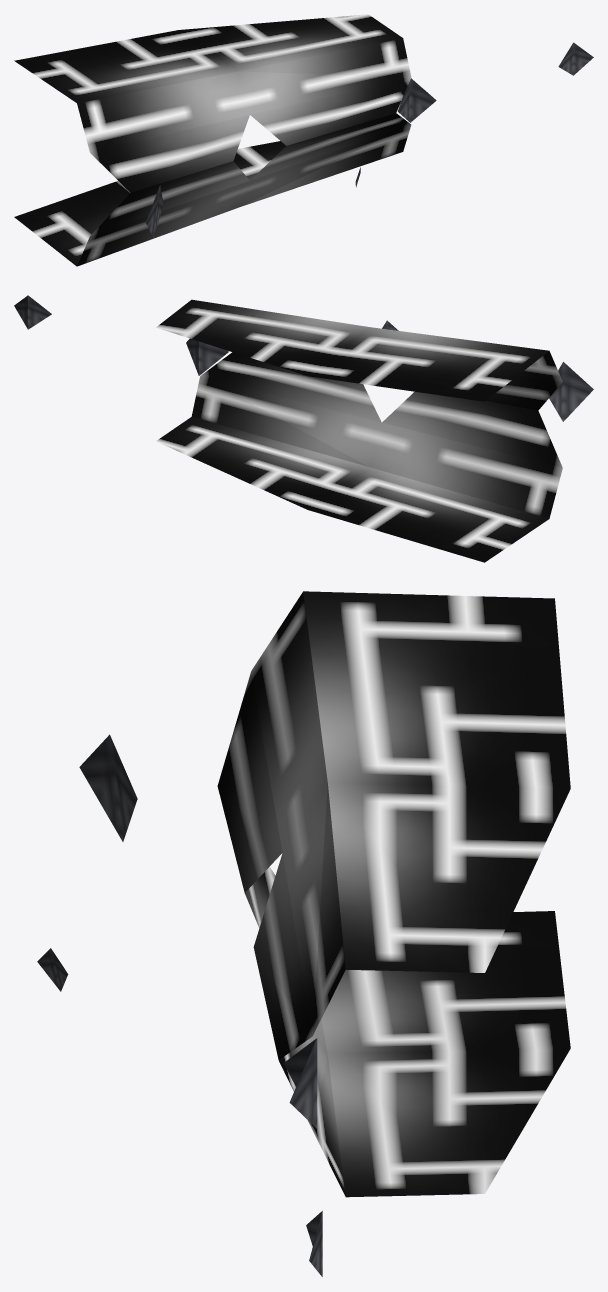
3 views of the same model, one above another, from view 1: azimuth 30°, elevation 25°; view 2: azimuth 150°, elevation 25°; view 3: azimuth 270°, elevation 25° (orthographic). The views are drawn at different scales.
Visible parts, largest first — view 1: B_0054_3b_0, B_0054_3b_1; view 2: B_0054_3b_0, B_0054_3b_1; view 3: B_0054_3b_0, B_0054_3b_1.
Boxes of the visible parts, <box> form: B_0054_3b_0: <box>14,14,411,266</box>; B_0054_3b_1: <box>145,42,593,238</box>; B_0054_3b_0: <box>156,299,562,562</box>; B_0054_3b_1: <box>14,295,593,421</box>; B_0054_3b_0: <box>217,591,570,1197</box>; B_0054_3b_1: <box>37,734,322,1276</box>.
Bounding box in the file's own units: 2.22 × 0.6694 × 0.9907.
Materials: 2 (2 with a texture image).
